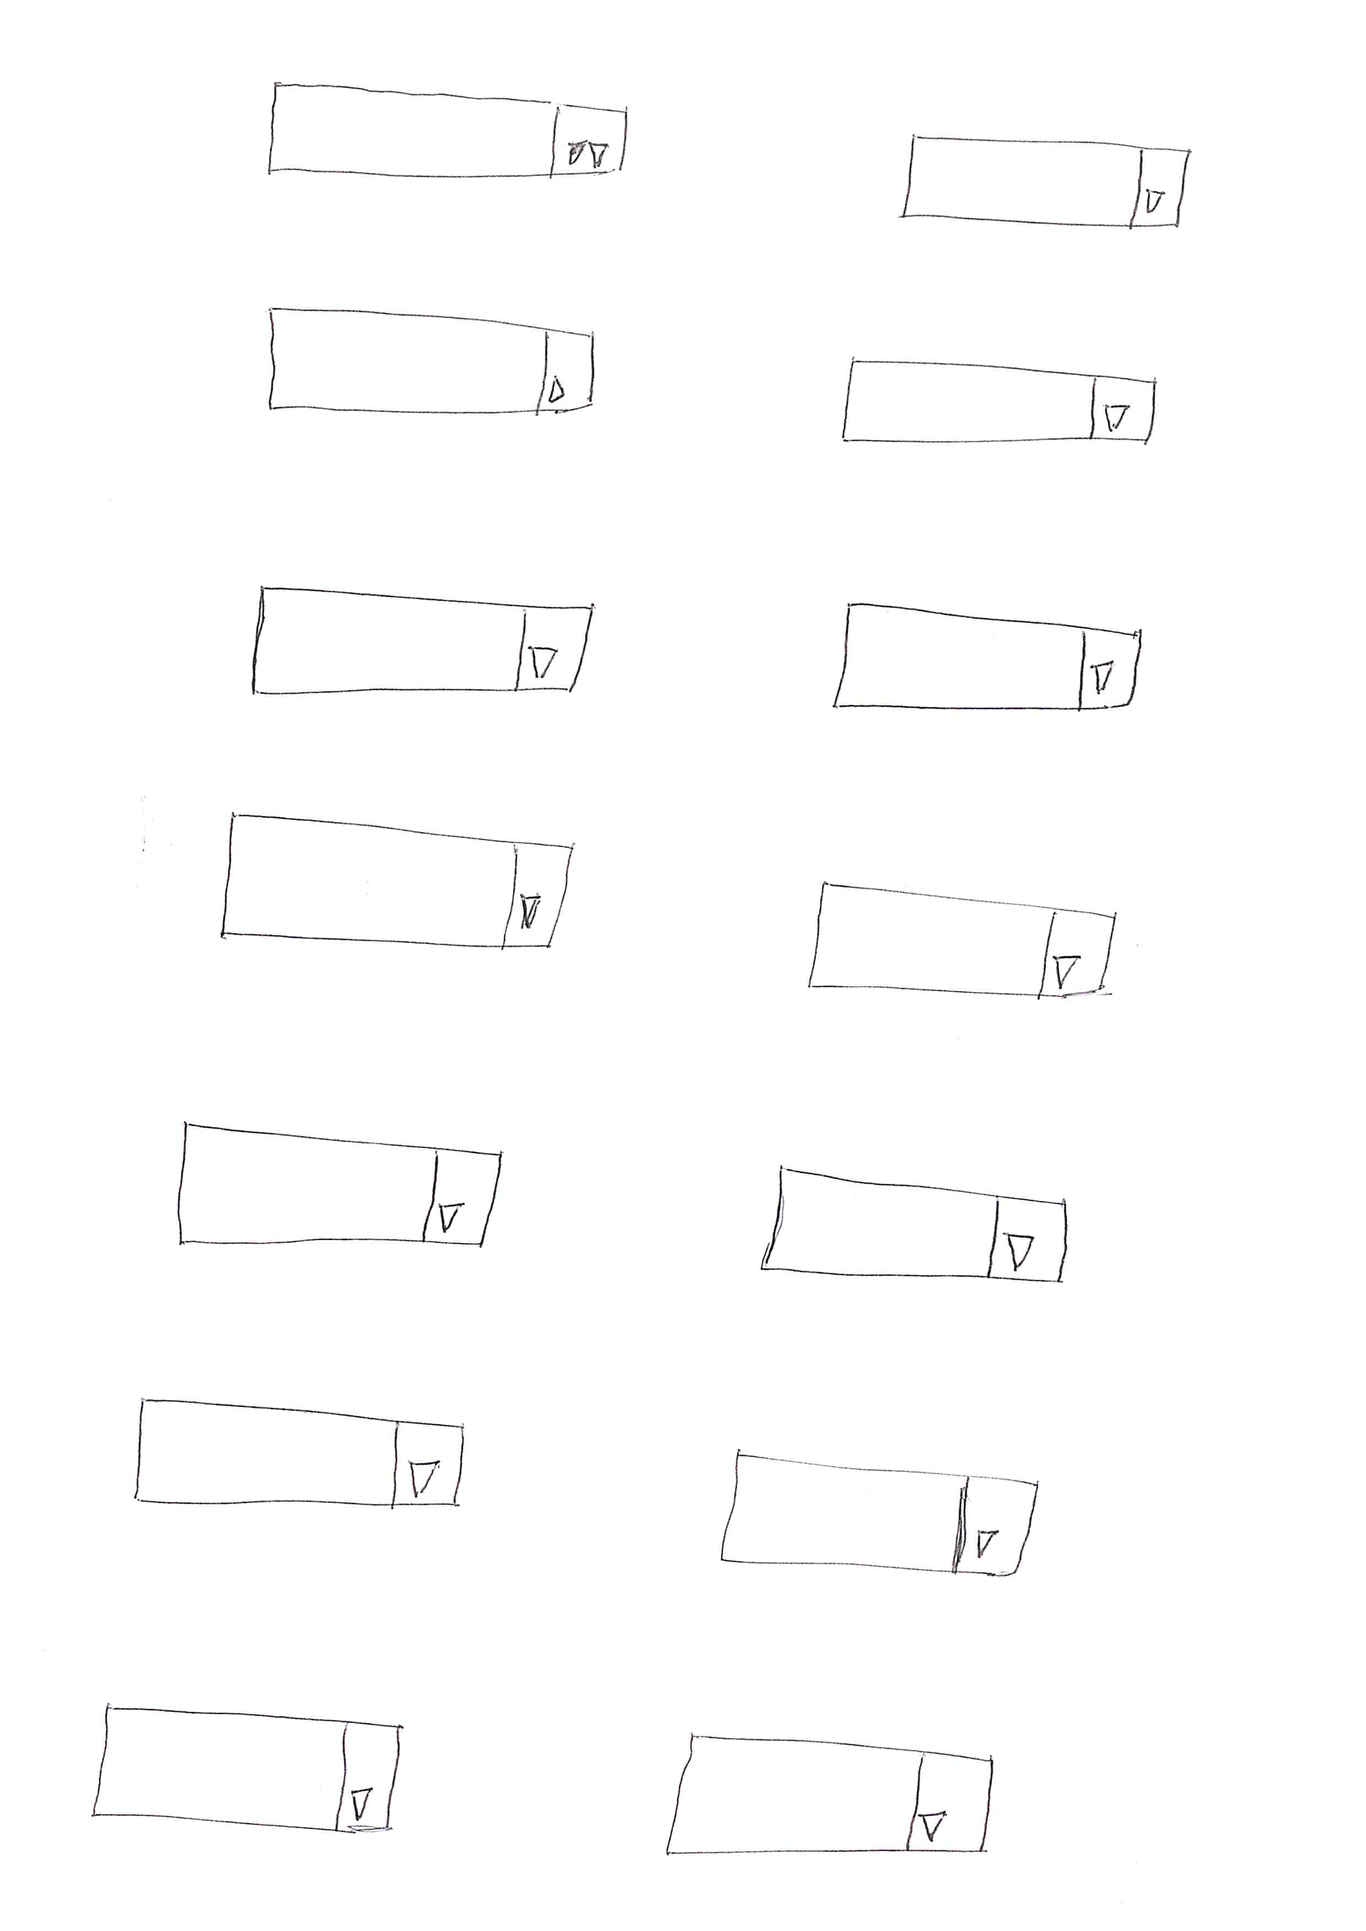Select: (217, 812, 575, 951), (174, 1118, 506, 1249), (662, 1731, 993, 1859), (89, 1703, 404, 1833), (720, 1450, 1041, 1578), (251, 586, 597, 696), (132, 1394, 466, 1507), (265, 81, 633, 182), (806, 881, 1118, 1000), (758, 1167, 1069, 1285), (265, 305, 596, 414), (831, 599, 1143, 713), (897, 135, 1193, 231), (840, 359, 1159, 447)
